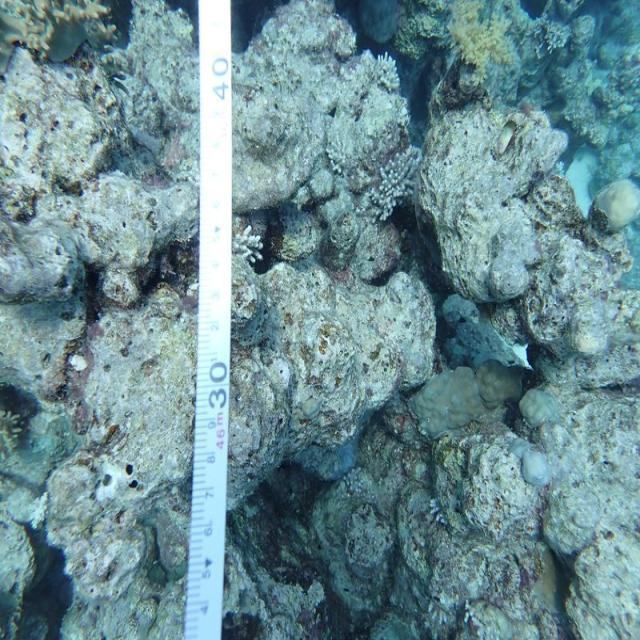Bleached Coral: (361, 138, 429, 226), (226, 212, 277, 278), (360, 51, 413, 104), (321, 130, 354, 188)
